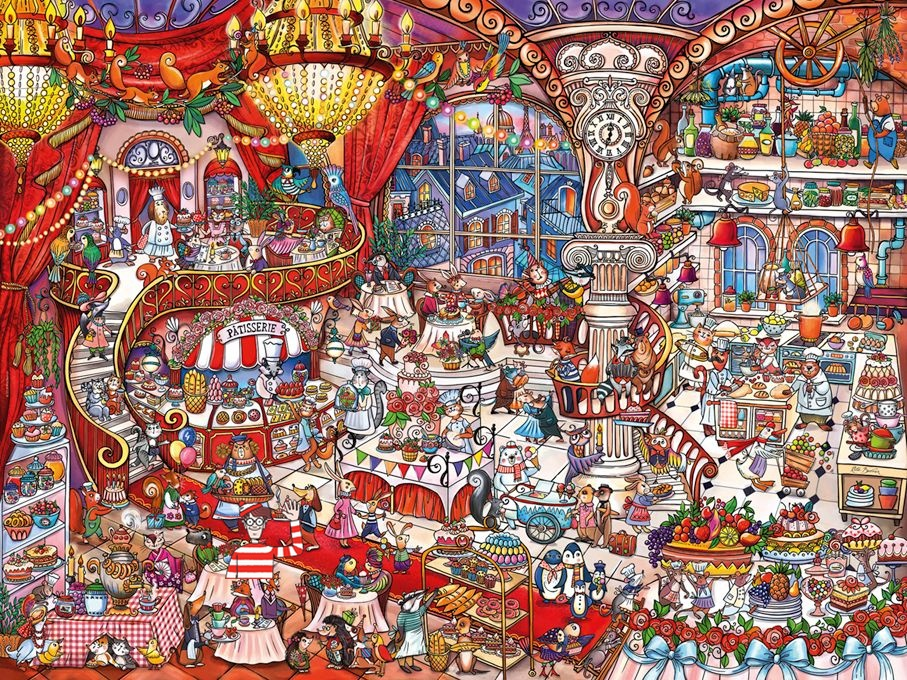waldo: (225, 499, 304, 579)
